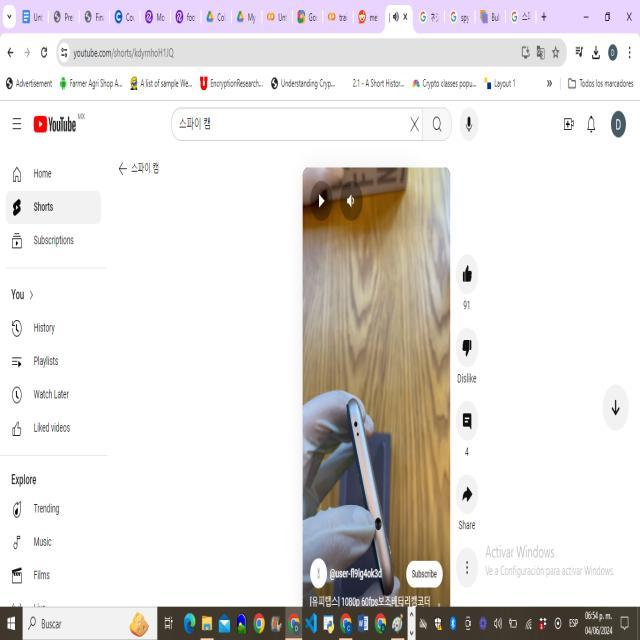hidden camera: (373, 517, 382, 528)
